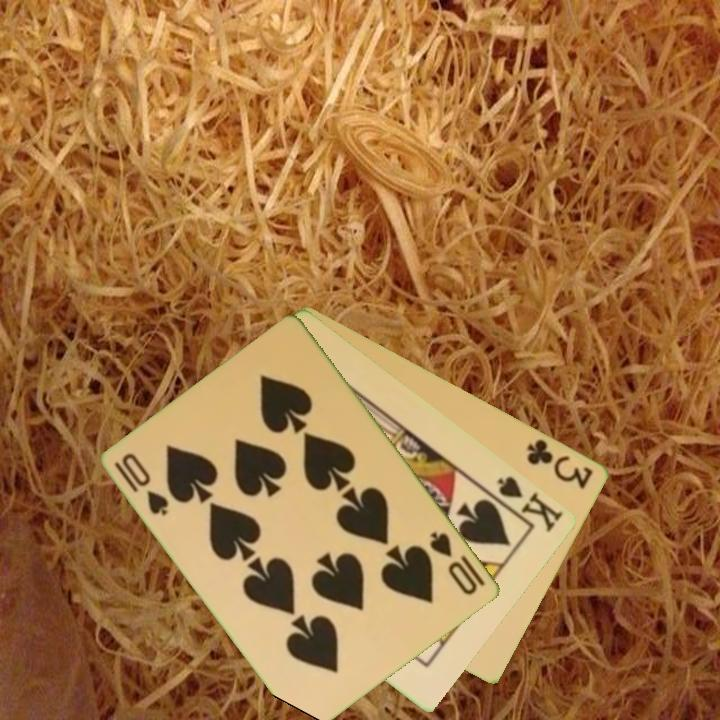10s: (111, 449, 173, 519), (426, 528, 481, 599)
3c: (524, 435, 597, 492)
Ks: (484, 472, 567, 535)
